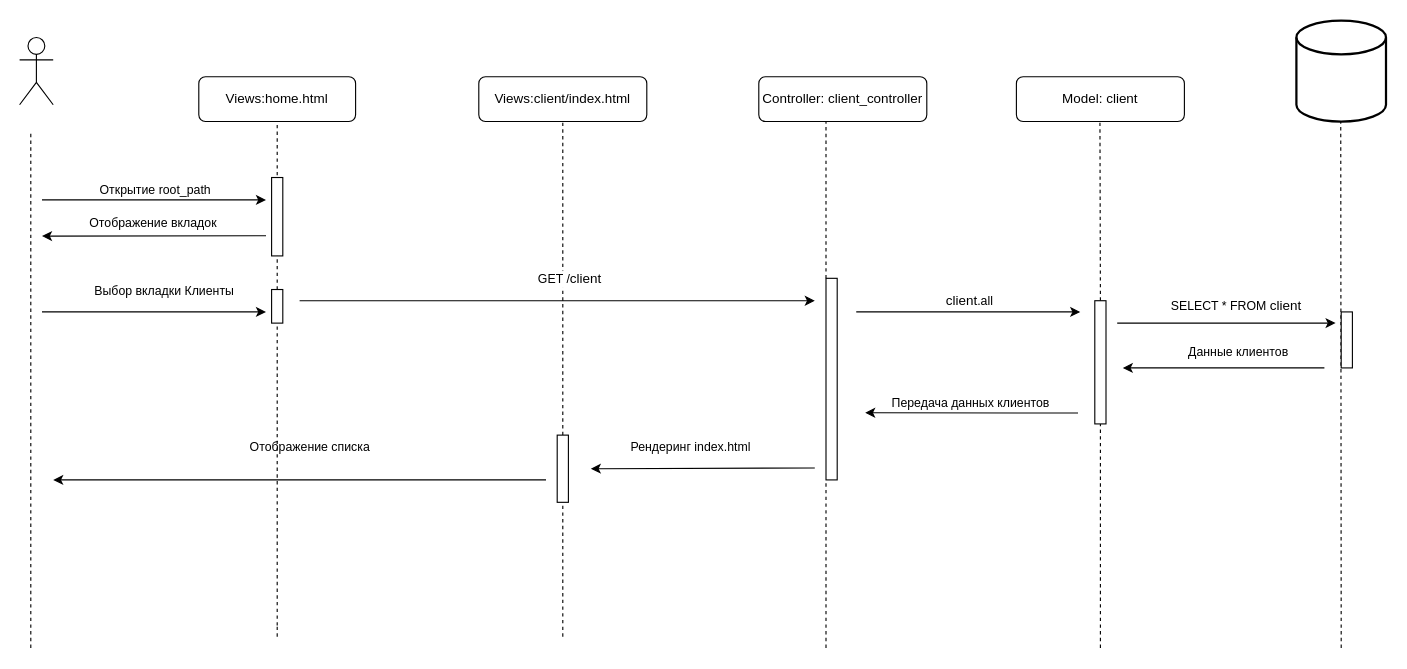
Image size: 1407x669. Some labels were removed from this diagram. Each missing label, with the box of its shape:
DB: (1295, 19, 1387, 122)
User: (18, 36, 53, 105)
